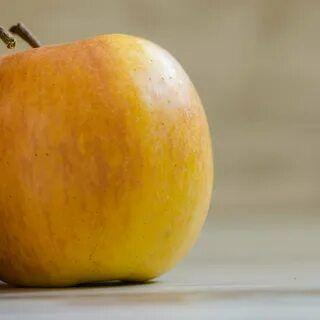Apple: (0, 35, 214, 284)
